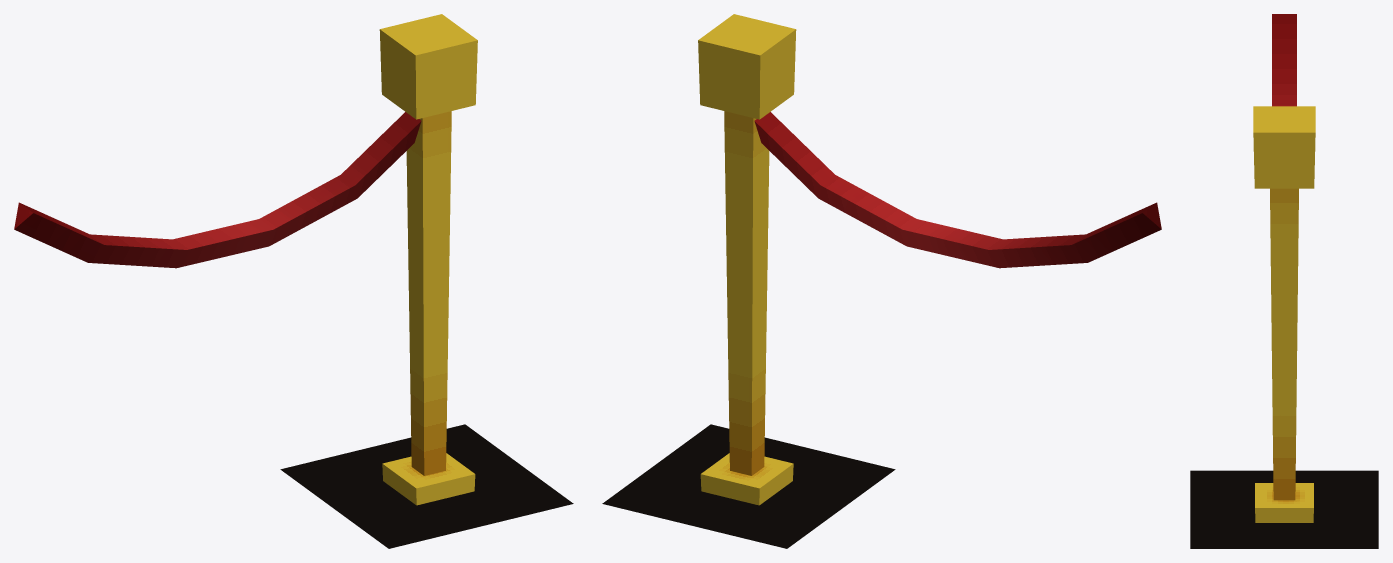
File: 1x1_velvet_rope.FBX
3 renders of one model, left to right at view 1: azimuth 30°, elevation 25°; view 2: azimuth 150°, elevation 25°; view 3: azimuth 270°, elevation 25°, orthographic. The views are drawn at different scales.
Visible parts, largest first — view 1: 1x1_velvet_rope, 1x1_velvet_rope_soft_shadow; view 2: 1x1_velvet_rope, 1x1_velvet_rope_soft_shadow; view 3: 1x1_velvet_rope, 1x1_velvet_rope_soft_shadow.
Boxes of the visible parts, box(x1,y1,x2,y2) form: 1x1_velvet_rope: box(14, 14, 477, 505); 1x1_velvet_rope_soft_shadow: box(280, 424, 573, 548); 1x1_velvet_rope: box(698, 14, 1161, 505); 1x1_velvet_rope_soft_shadow: box(602, 424, 895, 548); 1x1_velvet_rope: box(1253, 14, 1315, 522); 1x1_velvet_rope_soft_shadow: box(1190, 470, 1378, 548).
Bounding box in the file's own units: 1218 × 1050 × 454.
